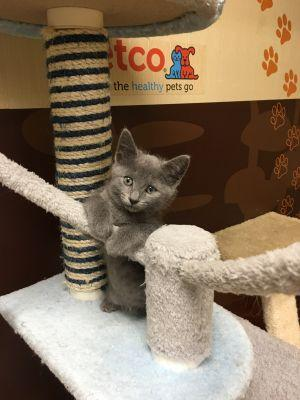rblue: (97, 120, 195, 228)
